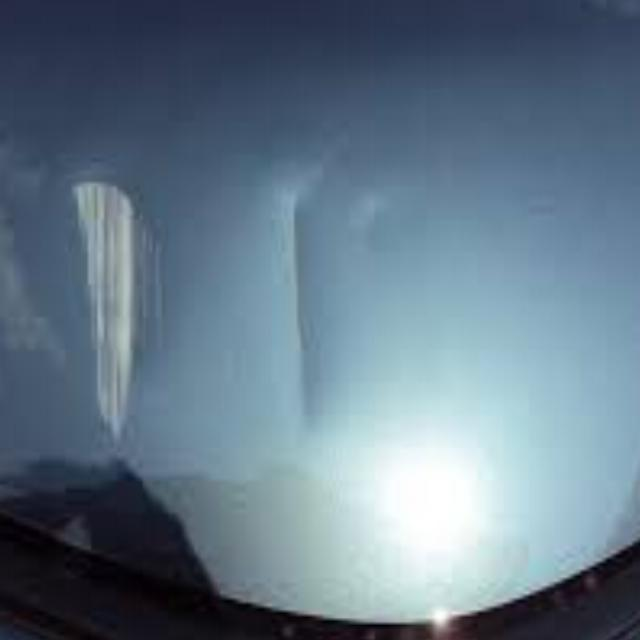dents: (259, 158, 371, 452)
